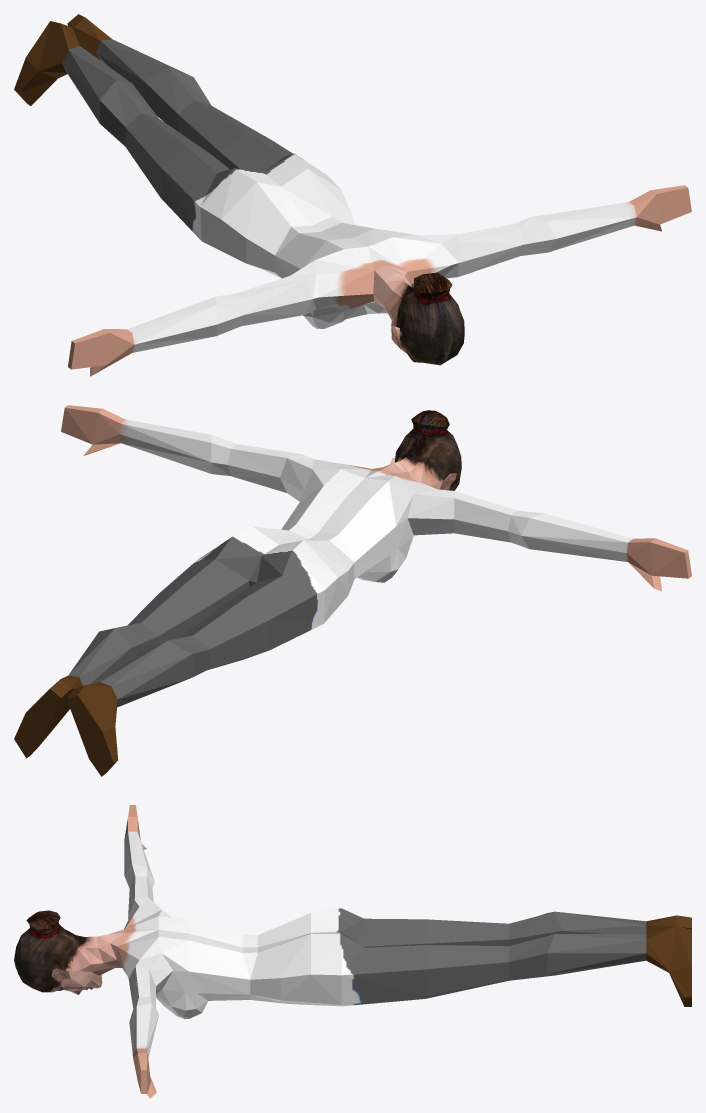
Rendered from bumpywoman2_wtf.obj.
3 renders of one model, top to bottom at view 1: azimuth 30°, elevation 25°; view 2: azimuth 150°, elevation 25°; view 3: azimuth 270°, elevation 25°, orthographic. The views are drawn at different scales.
Parts seen in each view (by area): view 1: group1, group2; view 2: group1, group2; view 3: group1, group2.
Part boxes in pixels (x1,y1,x2,y2): group1: (14,14,691,376); group2: (373,265,464,365); group1: (14,405,691,776); group2: (373,410,461,490); group1: (117,805,691,1098); group2: (14,910,124,994).
Bounding box in the file's own units: 619 × 97.19 × 660.
